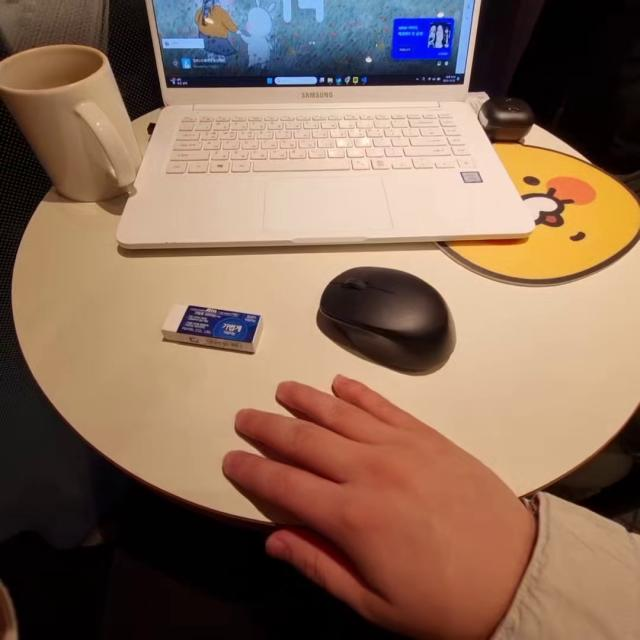eraser: (151, 297, 277, 365)
hand: (224, 378, 544, 637)
mouse: (308, 264, 482, 372)
